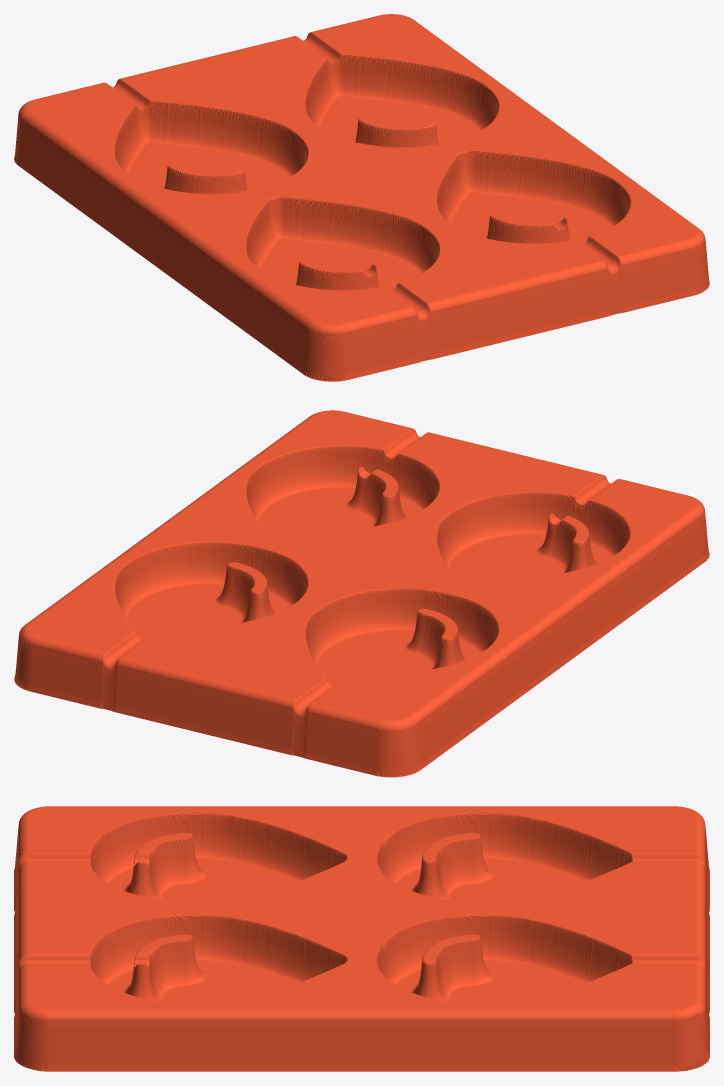
The model's file is mold.glb.
3 views of the same model, one above another, from view 1: azimuth 30°, elevation 25°; view 2: azimuth 150°, elevation 25°; view 3: azimuth 270°, elevation 25° (orthographic). The views are drawn at different scales.
Parts seen in each view (by area): view 1: geometry_0; view 2: geometry_0; view 3: geometry_0.
Part boxes in pixels (x1,y1,x2,y2): geometry_0: (14, 14, 709, 381); geometry_0: (14, 410, 709, 777); geometry_0: (14, 806, 709, 1071).
Size of the model in its own units: 0.1264 by 0.0155 by 0.1735.
